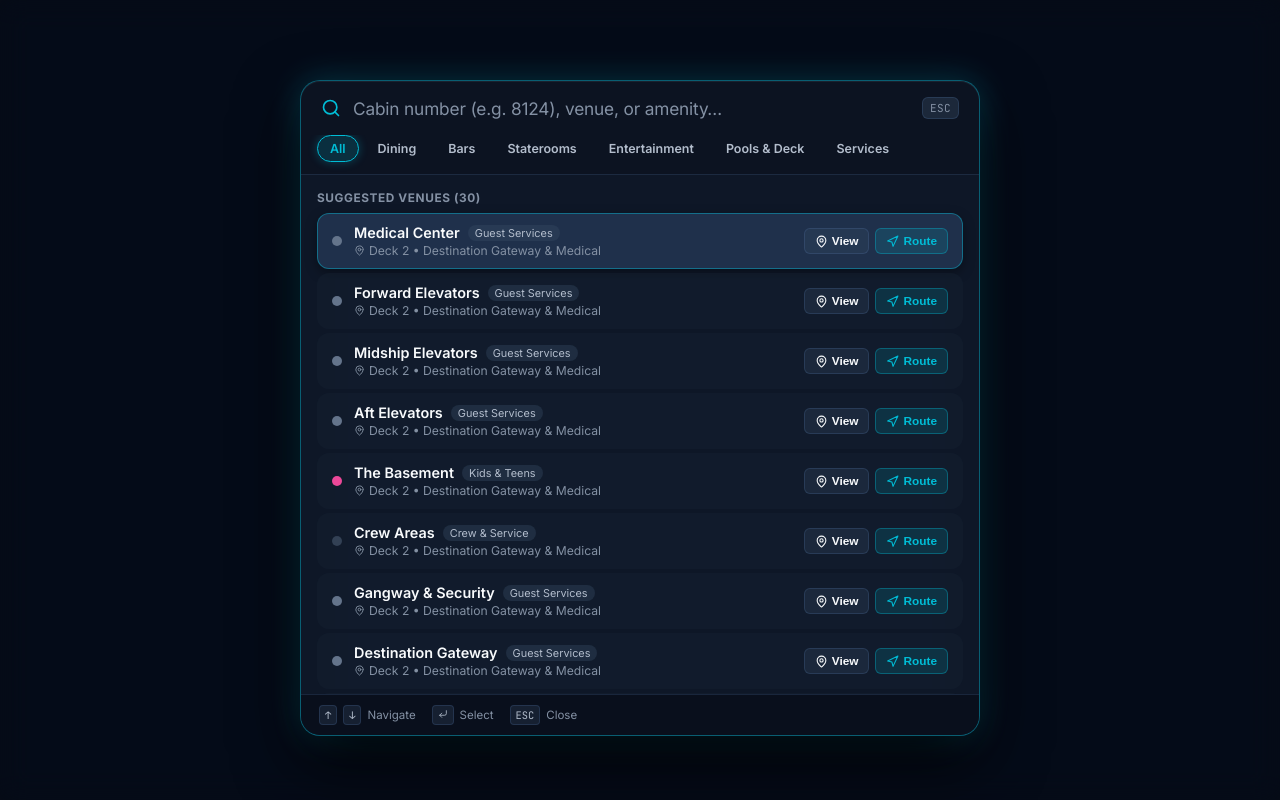
Test case: SearchCommandPalette › filters results by category tab
Click the tab "Dining" at [397, 148], box [365, 135, 429, 162]
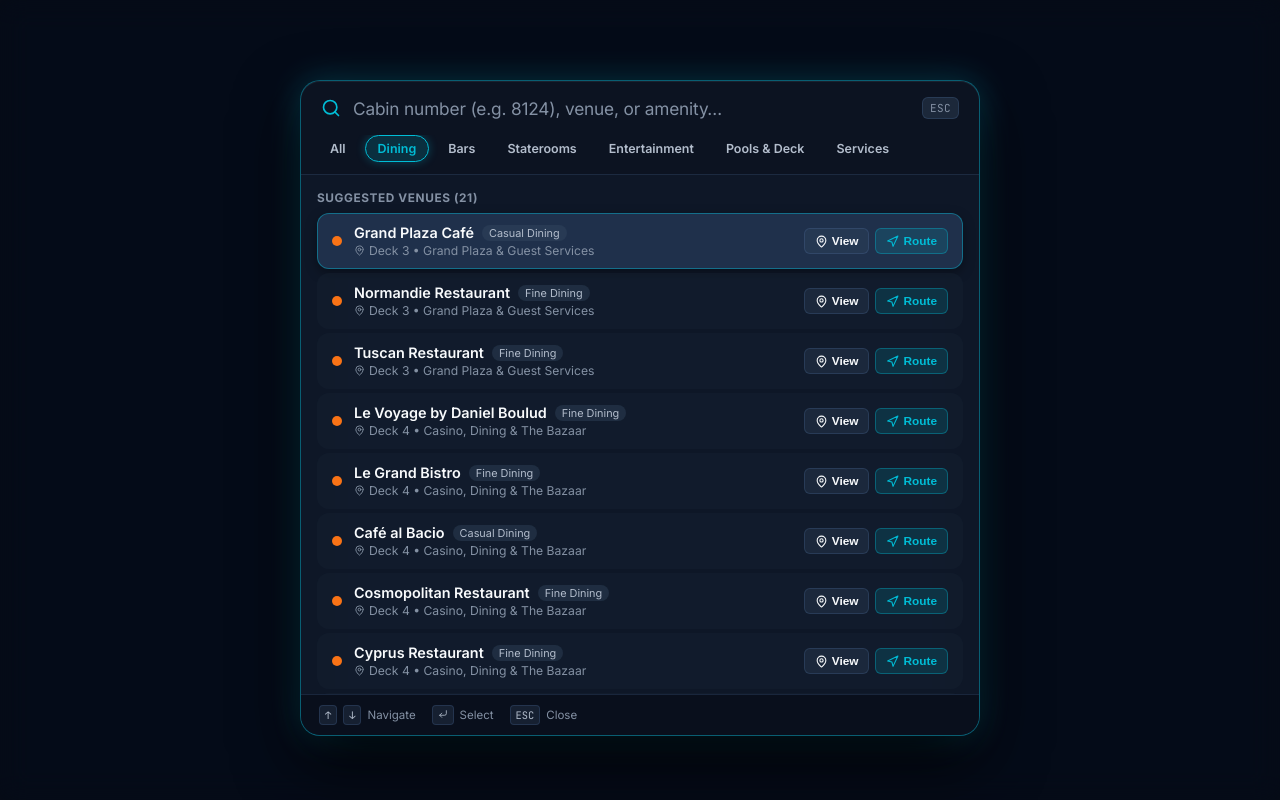
Result: the tab "Dining" has class "active" at [365, 135, 429, 162]
Type "Luminae" into the field with placeholder "Cabin number (e.g. 8124), venue, or amenity…" at [631, 108], box [353, 98, 910, 118]
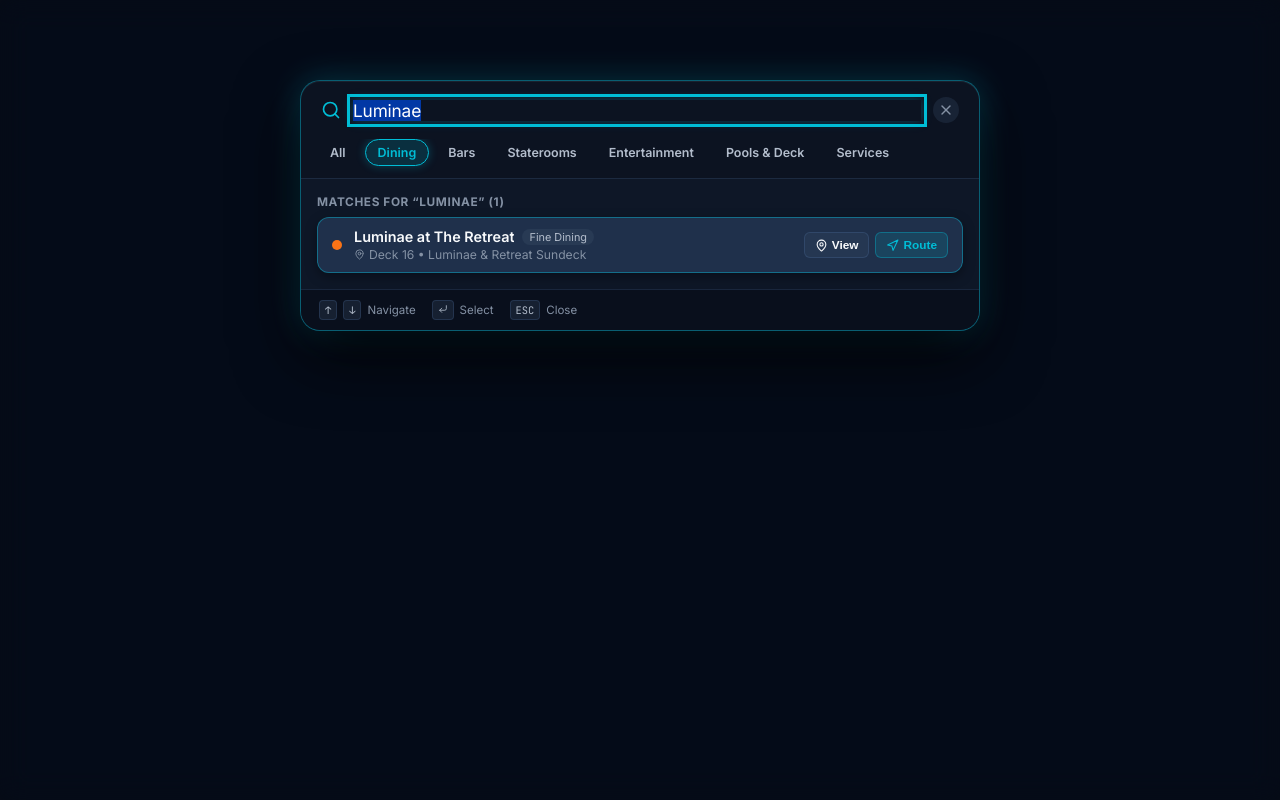
Result: the text "Luminae at The Retreat" is shown at [354, 228, 514, 245]
